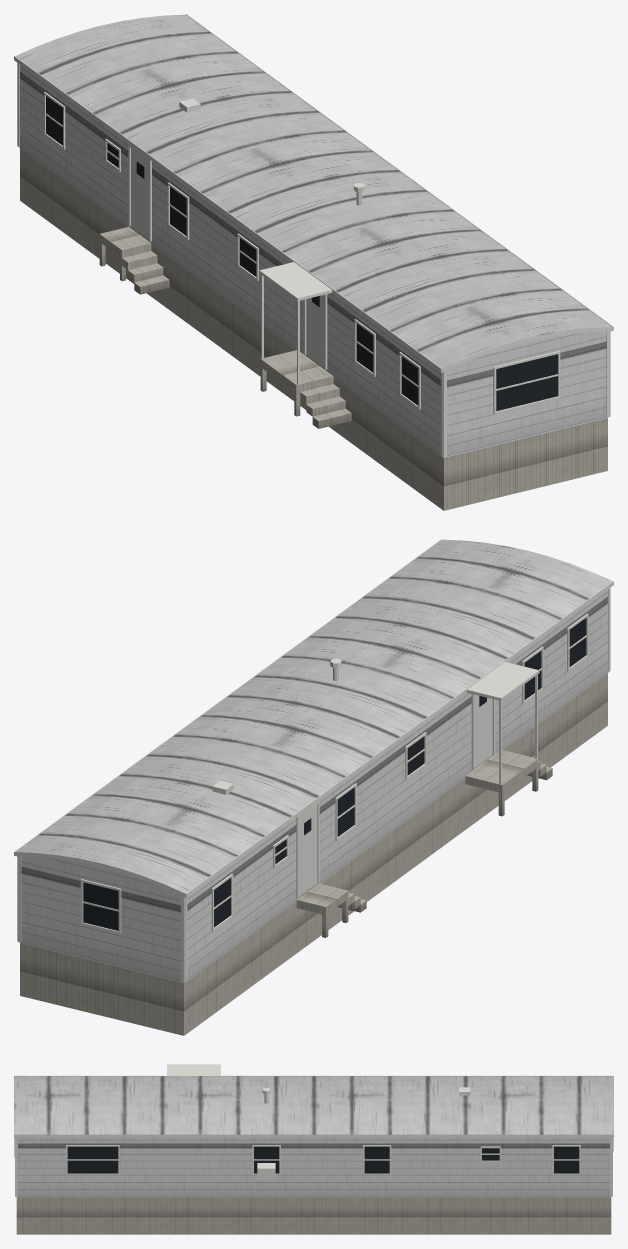
The model's file is mobile-single-b.glb.
3 renders of one model, top to bottom at view 1: azimuth 30°, elevation 25°; view 2: azimuth 150°, elevation 25°; view 3: azimuth 270°, elevation 25°, orthographic. The views are drawn at different scales.
Parts seen in each view (by area): view 1: Mobile_single_b; view 2: Mobile_single_b; view 3: Mobile_single_b.
Boxes of the visible parts, box(x1,y1,x2,y2) form: Mobile_single_b: box(14, 14, 613, 510); Mobile_single_b: box(14, 539, 613, 1035); Mobile_single_b: box(14, 1064, 613, 1234).
Bounding box in the file's own units: 5.66 × 4.23 × 19.
6 materials, 3 textured.
